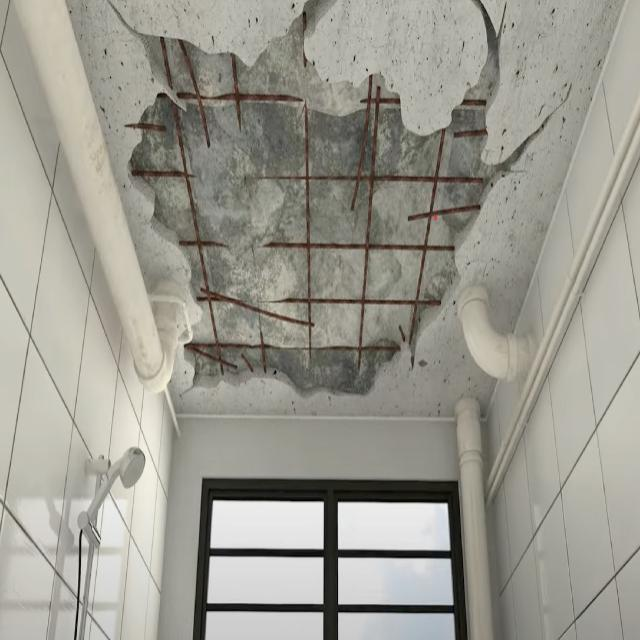Spalling: (114, 1, 574, 417)
